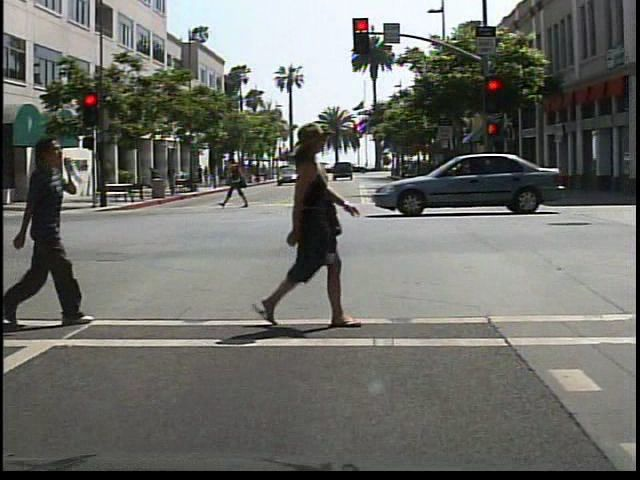person: (248, 128, 365, 336), (13, 129, 96, 328), (223, 155, 250, 209), (147, 164, 168, 196)
